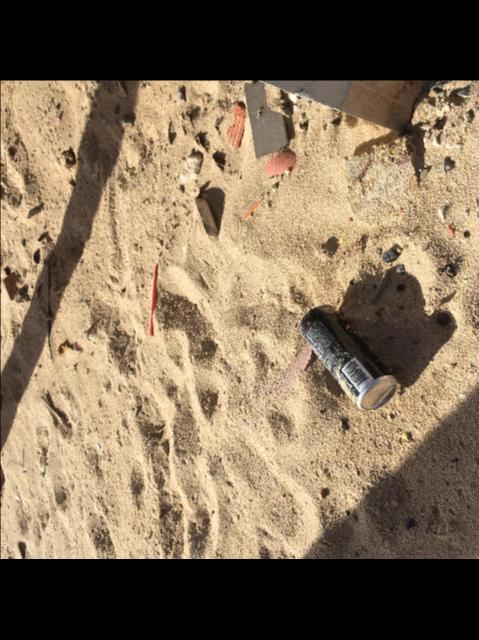metal: (298, 305, 396, 411)
